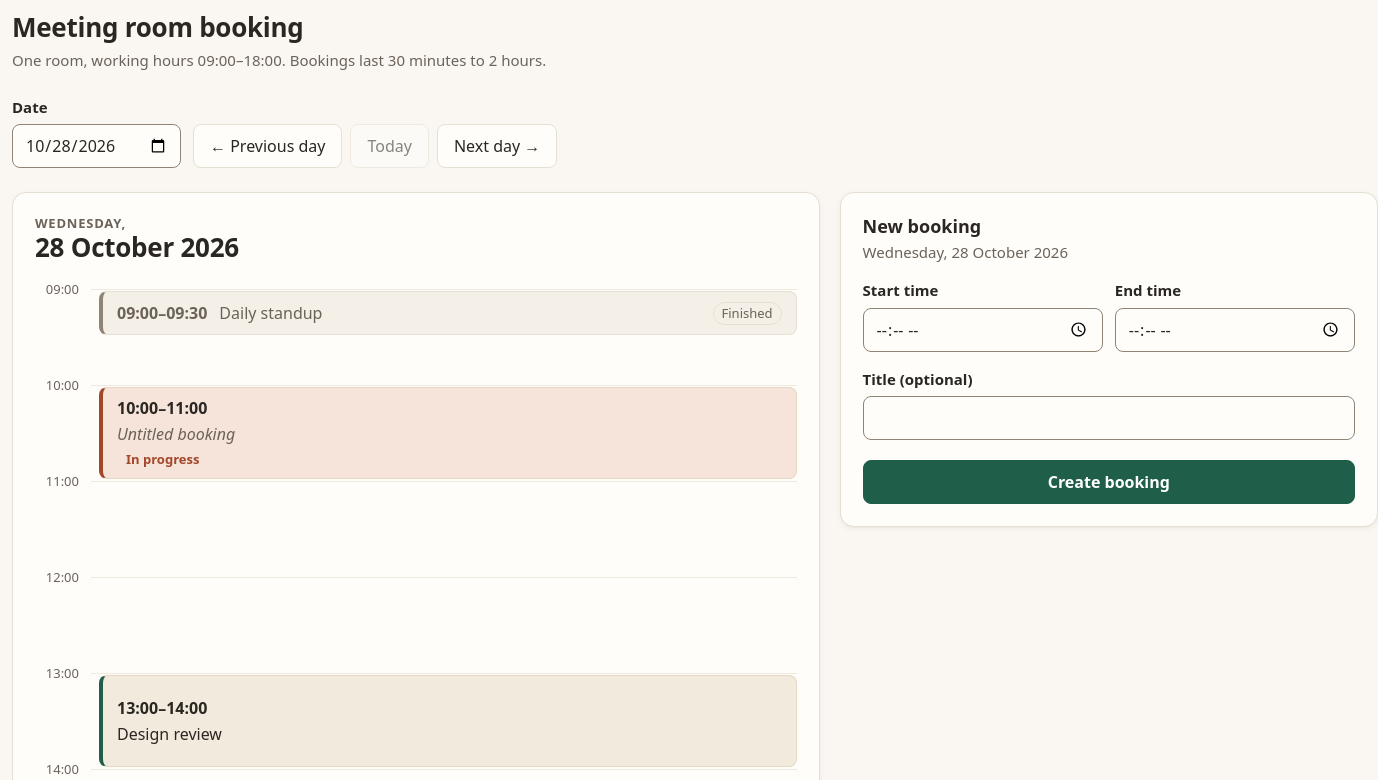
it: client-side validation › shows errors on submit, focuses the first invalid field and sends nothing
The width and height of the screenshot is (1378, 780).
Expected: the list is shown, top-left (99, 291), bottom-right (797, 767)
Click the button "Create booking" at (1109, 482), box top-left (863, 460), bottom-right (1355, 504)
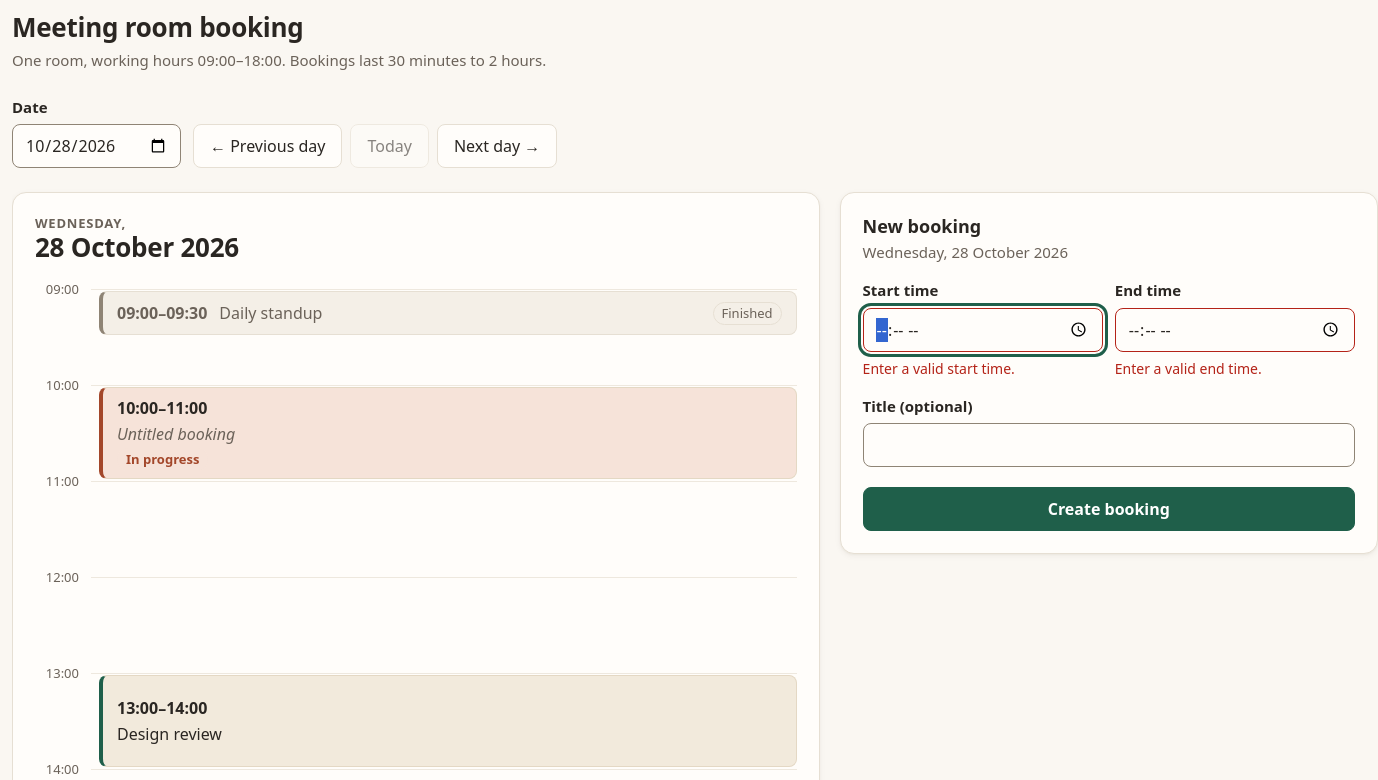
Expected: the text "Enter a valid start time." is shown, top-left (863, 359), bottom-right (1015, 378)
Expected: the text "Enter a valid end time." is shown, top-left (1115, 359), bottom-right (1262, 378)
